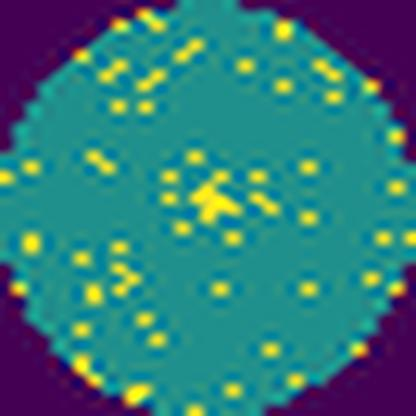Center: (190, 171, 248, 226)
